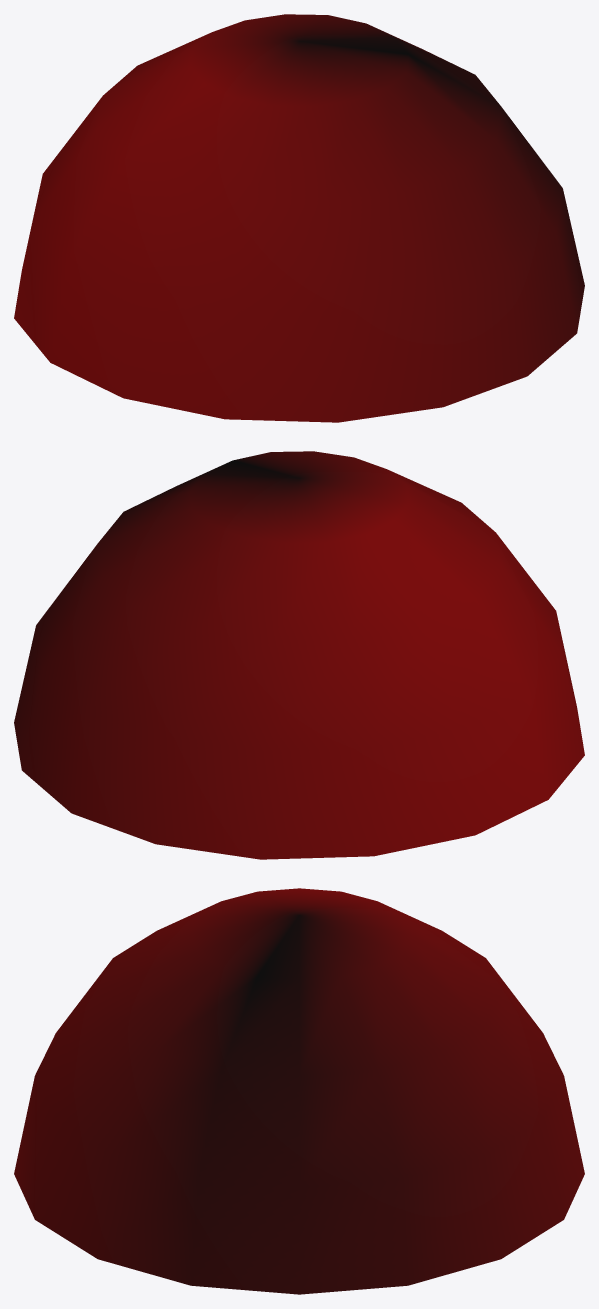
Rendered from beam_shield.glb.
The picture shows the model from 3 angles, top to bottom: view 1: azimuth 30°, elevation 25°; view 2: azimuth 150°, elevation 25°; view 3: azimuth 270°, elevation 25°; orthographic projection.
Parts seen in each view (by area): view 1: object_000; view 2: object_000; view 3: object_000.
Boxes of the visible parts, box(x1,y1,x2,y2) form: object_000: box(14, 14, 584, 422); object_000: box(14, 451, 584, 859); object_000: box(14, 888, 584, 1294).
Size of the model in its own units: 300 by 150 by 300.
